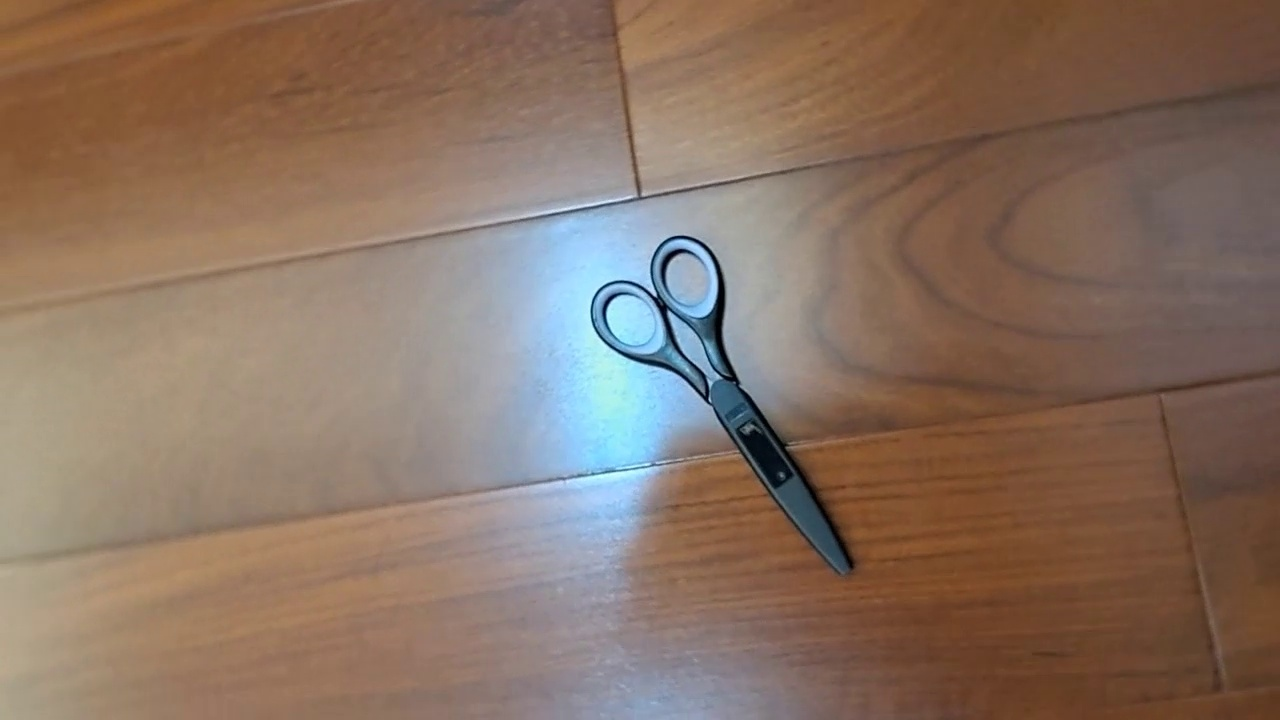scissors: (589, 234, 856, 579)
